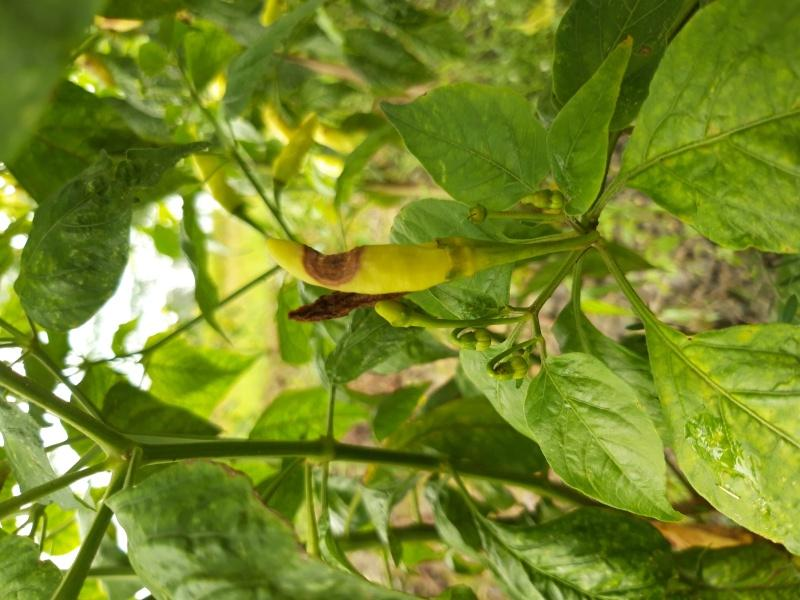antraknosa: (262, 234, 454, 300)
